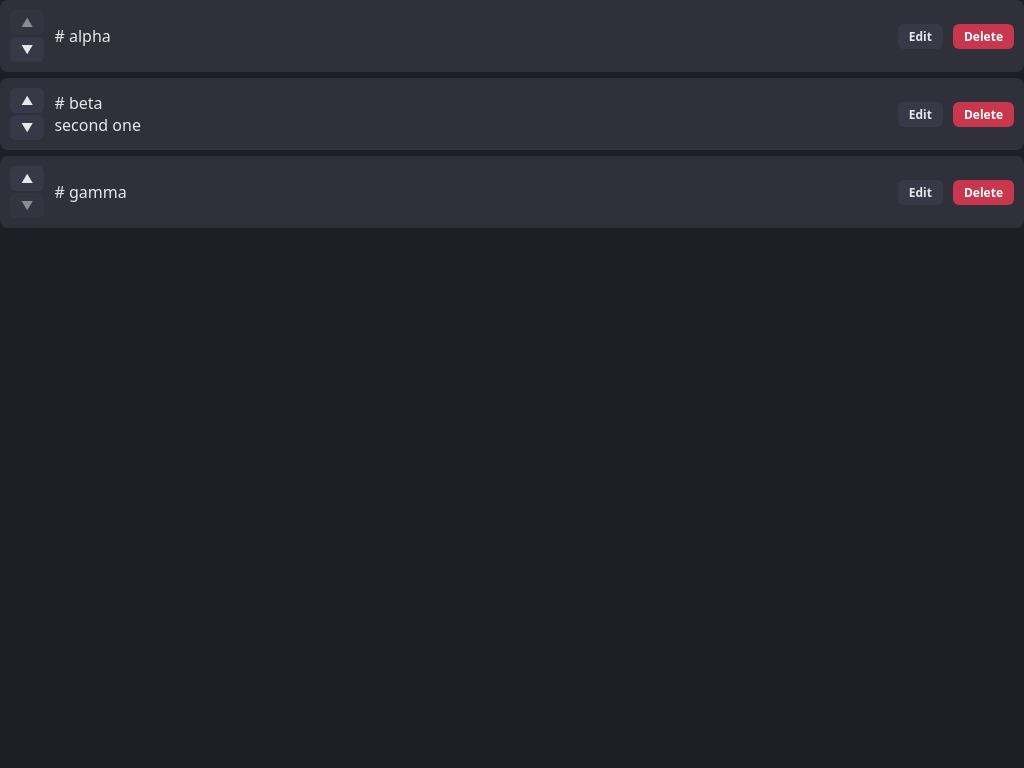
Scenario: ChannelsPanel - deleting › shows a server refusal and leaves the list as it was
Click the button "Delete" in the row of "alpha" at x=984, y=36, box [953, 24, 1014, 48]
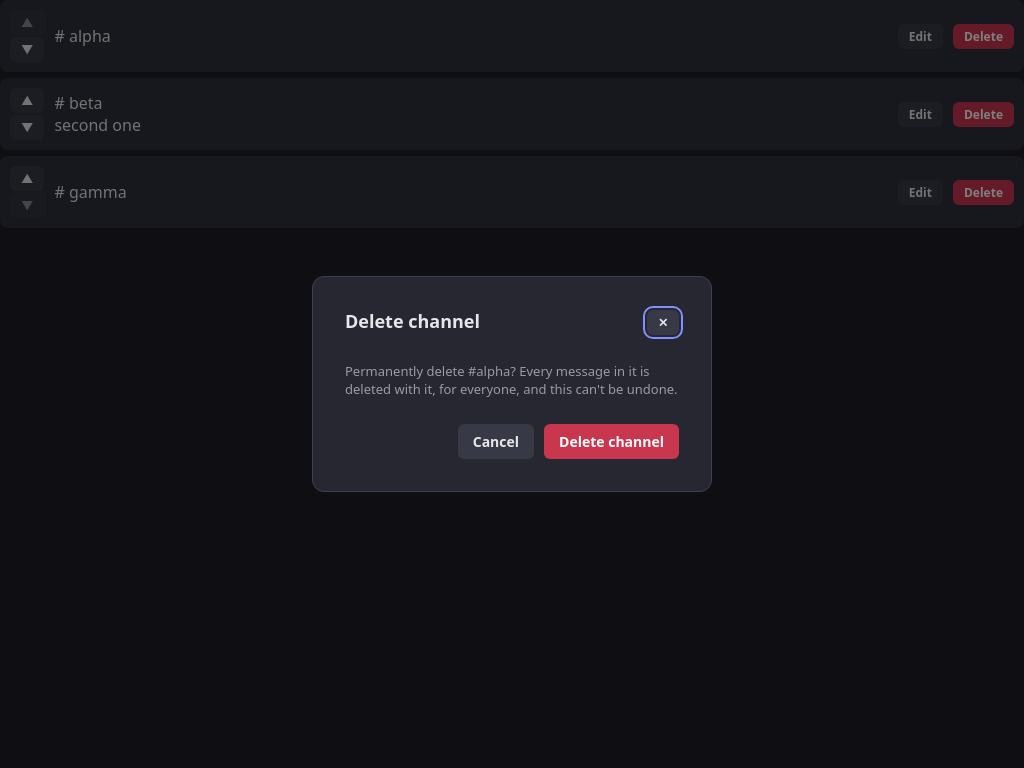
Click the button "Delete channel" at x=612, y=442, box [544, 424, 679, 459]
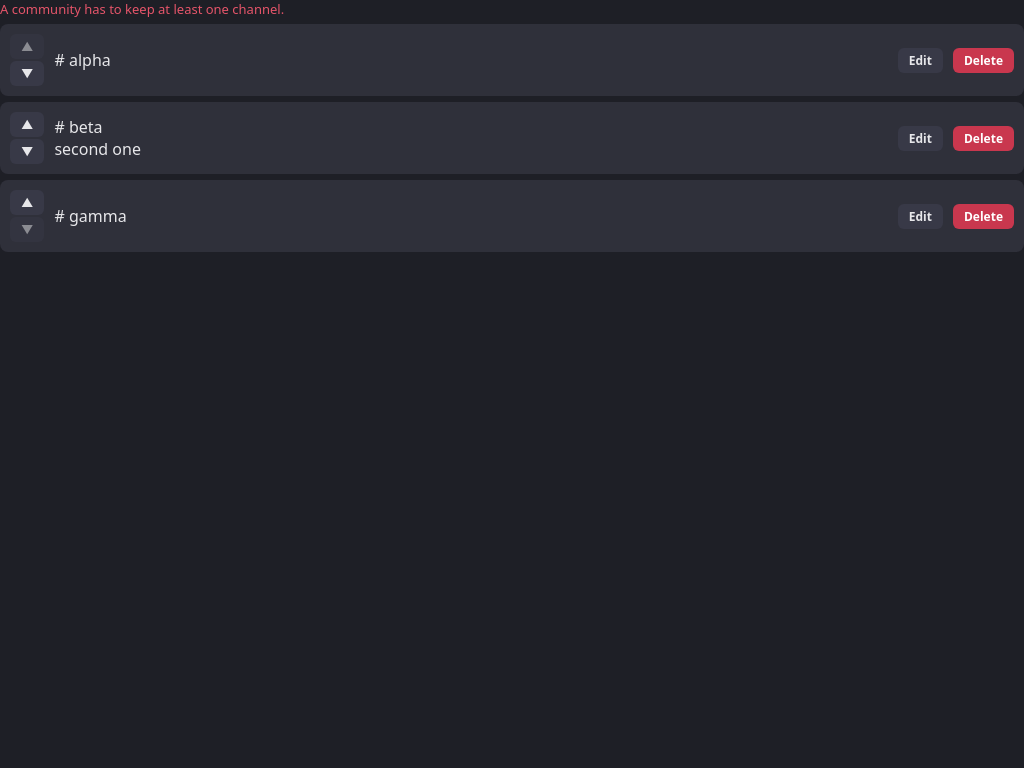
Check: the text "A community has to keep at least one channel." is shown, box [0, 0, 284, 18]
